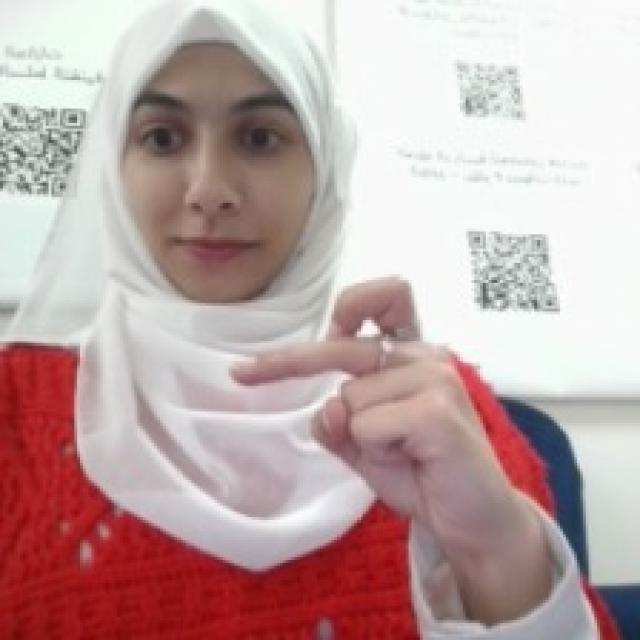sunday: (220, 263, 486, 508)
